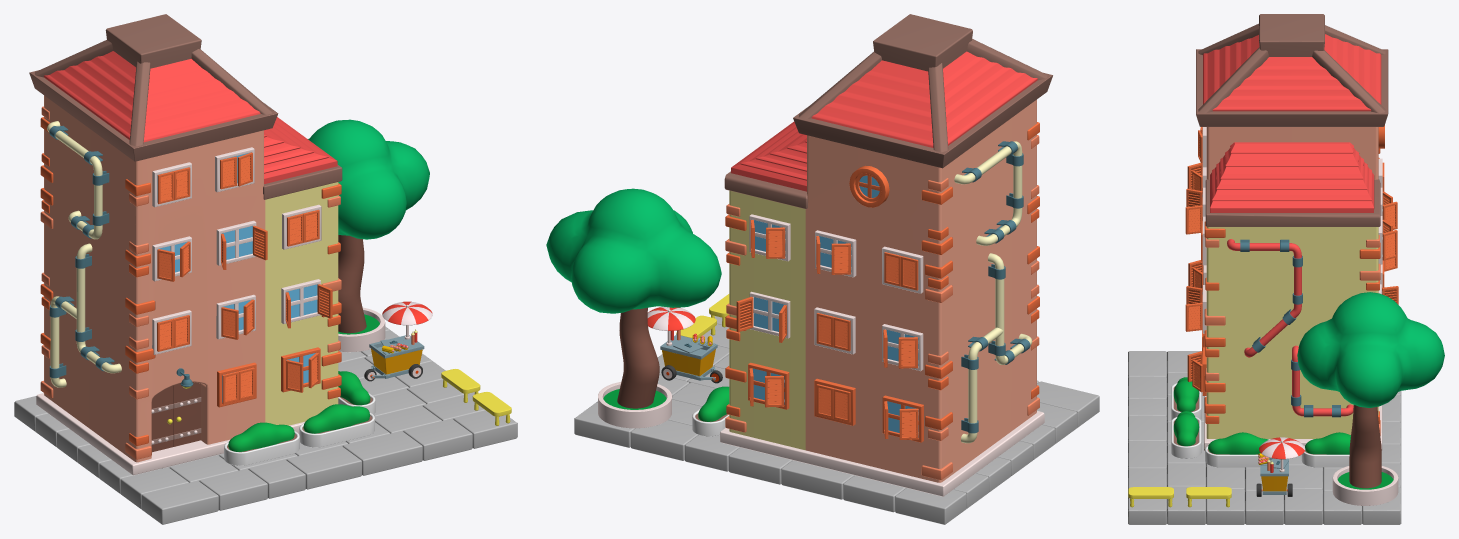
The model's file is City_Island_3.glb.
3 views of the same model, side by side, from view 1: azimuth 30°, elevation 25°; view 2: azimuth 150°, elevation 25°; view 3: azimuth 270°, elevation 25° (orthographic). The views are drawn at different scales.
Parts seen in each view (by area): view 1: City_3_House_1, City_3_Base_1, City_3_Tree_1, City_3_Pipe_3, City_3_Plant_6, City_3_Plant_1, City_3_Pipe_4, City_3_Hot_Dog_Car_1, City_3_Umbrella_1, City_3_Plant_7, City_3_Bench_1, City_3_Bench_2; view 2: City_3_House_1, City_3_Tree_1, City_3_Base_1, City_3_Pipe_3, City_3_Pipe_4, City_3_Hot_Dog_Car_1, City_3_Plant_8, City_3_Umbrella_1; view 3: City_3_House_1, City_3_Base_1, City_3_Tree_1, City_3_Pipe_1, City_3_Plant_7, City_3_Plant_8, City_3_Plant_1, City_3_Pipe_2, City_3_Plant_6, City_3_Hot_Dog_Car_1, City_3_Umbrella_1, City_3_Bench_1 (+1 smaller).
Boxes of the visible parts, left/top/right/bottom form: City_3_House_1: left=29, top=14, right=342, bottom=475; City_3_Base_1: left=14, top=326, right=517, bottom=524; City_3_Tree_1: left=308, top=119, right=429, bottom=352; City_3_Pipe_3: left=49, top=243, right=121, bottom=387; City_3_Plant_6: left=224, top=422, right=299, bottom=465; City_3_Plant_1: left=299, top=404, right=374, bottom=447; City_3_Pipe_4: left=47, top=121, right=109, bottom=239; City_3_Hot_Dog_Car_1: left=364, top=335, right=424, bottom=381; City_3_Umbrella_1: left=382, top=301, right=432, bottom=339; City_3_Plant_7: left=338, top=371, right=375, bottom=414; City_3_Bench_1: left=472, top=392, right=511, bottom=425; City_3_Bench_2: left=441, top=369, right=480, bottom=402; City_3_House_1: left=720, top=14, right=1052, bottom=496; City_3_Tree_1: left=546, top=188, right=721, bottom=428; City_3_Base_1: left=574, top=316, right=1099, bottom=524; City_3_Pipe_3: left=961, top=253, right=1032, bottom=443; City_3_Pipe_4: left=954, top=141, right=1023, bottom=245; City_3_Hot_Dog_Car_1: left=660, top=334, right=722, bottom=383; City_3_Plant_8: left=692, top=386, right=729, bottom=436; City_3_Umbrella_1: left=647, top=306, right=695, bottom=345; City_3_House_1: left=1185, top=14, right=1398, bottom=451; City_3_Base_1: left=1128, top=351, right=1401, bottom=524; City_3_Tree_1: left=1297, top=292, right=1444, bottom=505; City_3_Pipe_1: left=1227, top=239, right=1302, bottom=357; City_3_Plant_7: left=1205, top=432, right=1268, bottom=467; City_3_Plant_8: left=1301, top=432, right=1350, bottom=467; City_3_Plant_1: left=1171, top=411, right=1201, bottom=458; City_3_Pipe_2: left=1291, top=345, right=1353, bottom=417; City_3_Plant_6: left=1171, top=377, right=1201, bottom=419; City_3_Hot_Dog_Car_1: left=1256, top=457, right=1292, bottom=496; City_3_Umbrella_1: left=1259, top=437, right=1305, bottom=472; City_3_Bench_1: left=1128, top=487, right=1173, bottom=507.
Bounding box in the file's own units: 15.68 × 15.42 × 11.83.
22 materials, 22 textured.
